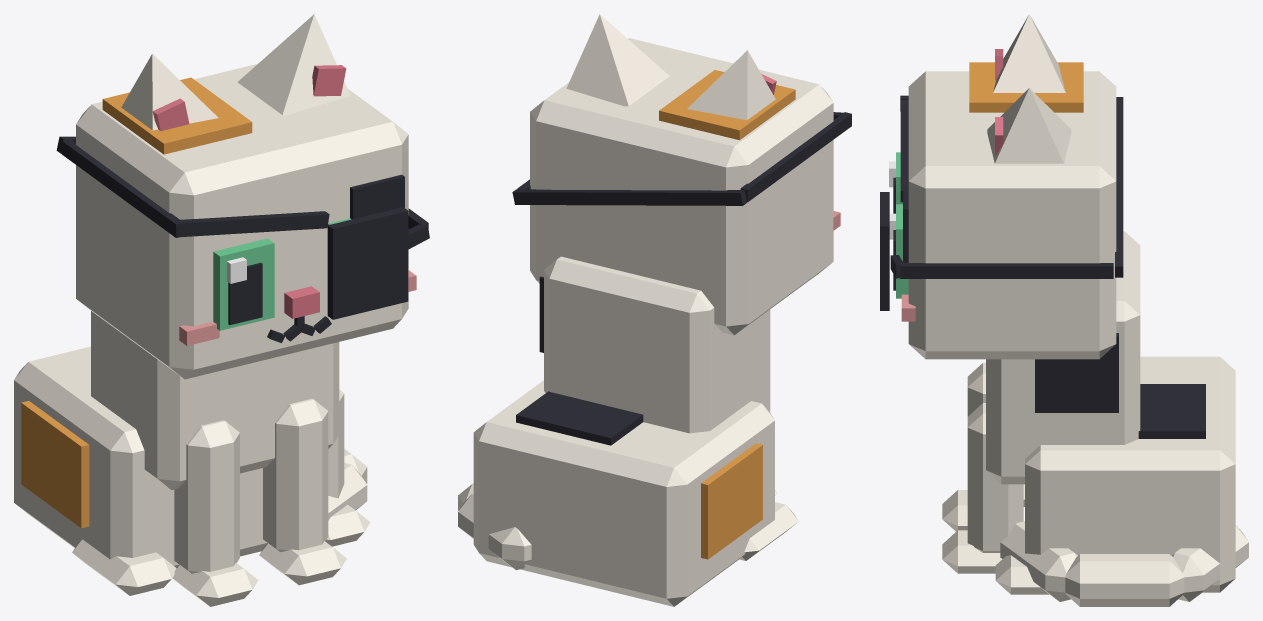
Rendered from CatCafe_Cat_Calico_Sit.glb.
The picture shows the model from 3 angles, left to right: view 1: azimuth 30°, elevation 25°; view 2: azimuth 150°, elevation 25°; view 3: azimuth 270°, elevation 25°; orthographic projection. The views are drawn at different scales.
Visible parts, largest first — view 1: CatCafe_Cat_Calico_Sit_Head, CatCafe_Cat_Calico_Sit_Body, CatCafe_Cat_Calico_Sit_Prop, CatCafe_Cat_Calico_Sit_LegF1, CatCafe_Cat_Calico_Sit_LegF2, CatCafe_Cat_Calico_Sit_EarL, CatCafe_Cat_Calico_Sit_Eye2, CatCafe_Cat_Calico_Sit_EarR, CatCafe_Cat_Calico_Sit_Tail; view 2: CatCafe_Cat_Calico_Sit_Body, CatCafe_Cat_Calico_Sit_Head, CatCafe_Cat_Calico_Sit_Prop, CatCafe_Cat_Calico_Sit_EarL, CatCafe_Cat_Calico_Sit_EarR, CatCafe_Cat_Calico_Sit_Tail; view 3: CatCafe_Cat_Calico_Sit_Head, CatCafe_Cat_Calico_Sit_Body, CatCafe_Cat_Calico_Sit_Tail, CatCafe_Cat_Calico_Sit_Prop, CatCafe_Cat_Calico_Sit_LegF1, CatCafe_Cat_Calico_Sit_EarL, CatCafe_Cat_Calico_Sit_EarR, CatCafe_Cat_Calico_Sit_LegF2, CatCafe_Cat_Calico_Sit_Eye1, CatCafe_Cat_Calico_Sit_Eye2.
Boxes of the visible parts, x1,y1,x2,y2 form: CatCafe_Cat_Calico_Sit_Head: (76, 64, 416, 379); CatCafe_Cat_Calico_Sit_Body: (14, 311, 370, 595); CatCafe_Cat_Calico_Sit_Prop: (56, 136, 429, 319); CatCafe_Cat_Calico_Sit_LegF1: (259, 398, 346, 585); CatCafe_Cat_Calico_Sit_LegF2: (172, 420, 258, 606); CatCafe_Cat_Calico_Sit_EarL: (237, 14, 350, 115); CatCafe_Cat_Calico_Sit_Eye2: (213, 238, 274, 330); CatCafe_Cat_Calico_Sit_EarR: (121, 54, 218, 130); CatCafe_Cat_Calico_Sit_Tail: (328, 449, 367, 520); CatCafe_Cat_Calico_Sit_Body: (473, 256, 798, 606); CatCafe_Cat_Calico_Sit_Head: (530, 38, 840, 335); CatCafe_Cat_Calico_Sit_Prop: (512, 112, 851, 205); CatCafe_Cat_Calico_Sit_EarL: (566, 14, 669, 106); CatCafe_Cat_Calico_Sit_EarR: (687, 50, 776, 120); CatCafe_Cat_Calico_Sit_Tail: (458, 483, 531, 570); CatCafe_Cat_Calico_Sit_Head: (901, 62, 1116, 359); CatCafe_Cat_Calico_Sit_Body: (986, 231, 1235, 594); CatCafe_Cat_Calico_Sit_Tail: (1000, 521, 1248, 606); CatCafe_Cat_Calico_Sit_Prop: (880, 95, 1123, 310); CatCafe_Cat_Calico_Sit_LegF1: (942, 403, 1023, 573); CatCafe_Cat_Calico_Sit_EarL: (987, 88, 1071, 163); CatCafe_Cat_Calico_Sit_EarR: (993, 14, 1065, 92); CatCafe_Cat_Calico_Sit_LegF2: (942, 362, 985, 531); CatCafe_Cat_Calico_Sit_Eye1: (889, 204, 908, 298); CatCafe_Cat_Calico_Sit_Eye2: (889, 152, 902, 213).
Bounding box in the file's own units: 1.05 × 1.85 × 1.25.
Materials: 1 (1 with a texture image).
